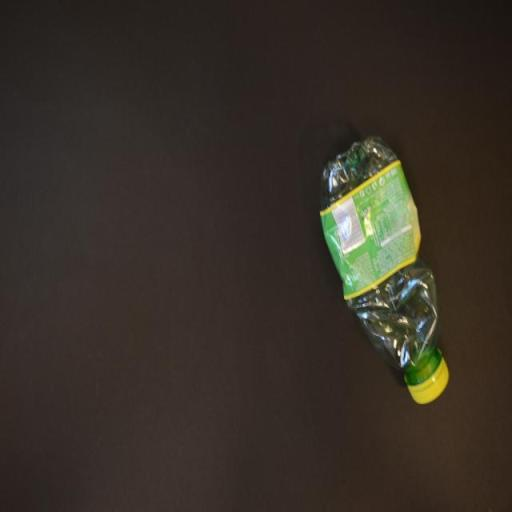plastic: (317, 139, 452, 408)
